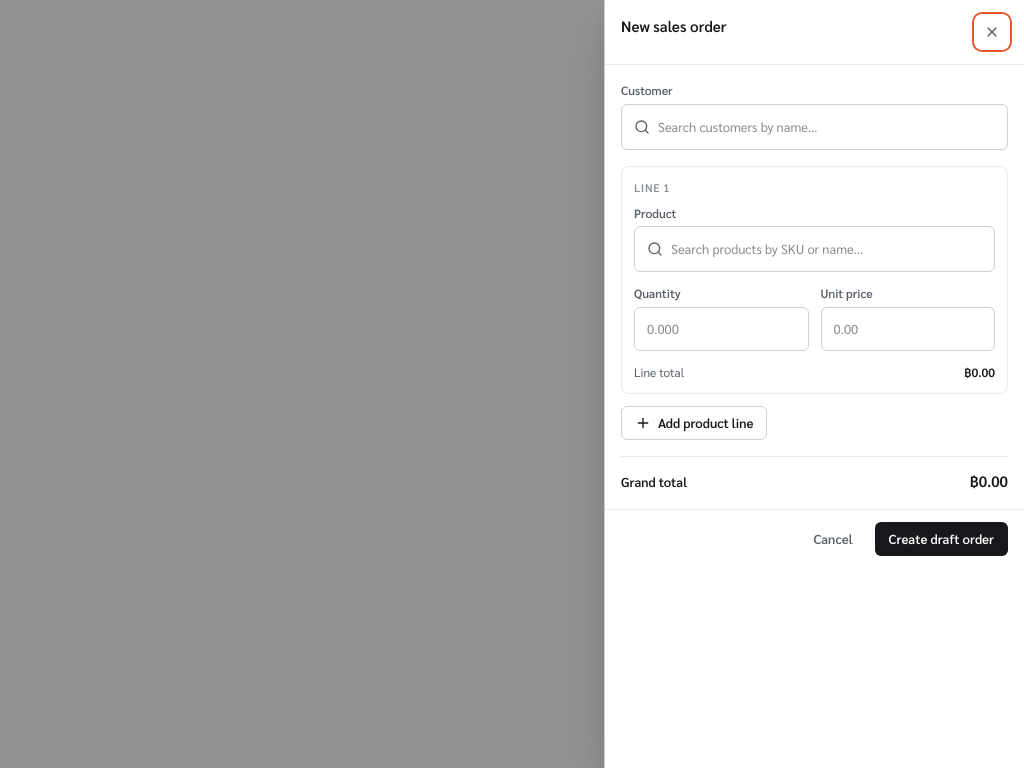
Test: CreateSalesOrderDrawer — validation summary › blocks submit and shows field errors when the form is empty
Click the button "Create draft order": (941, 539) [874,522,1008,556]
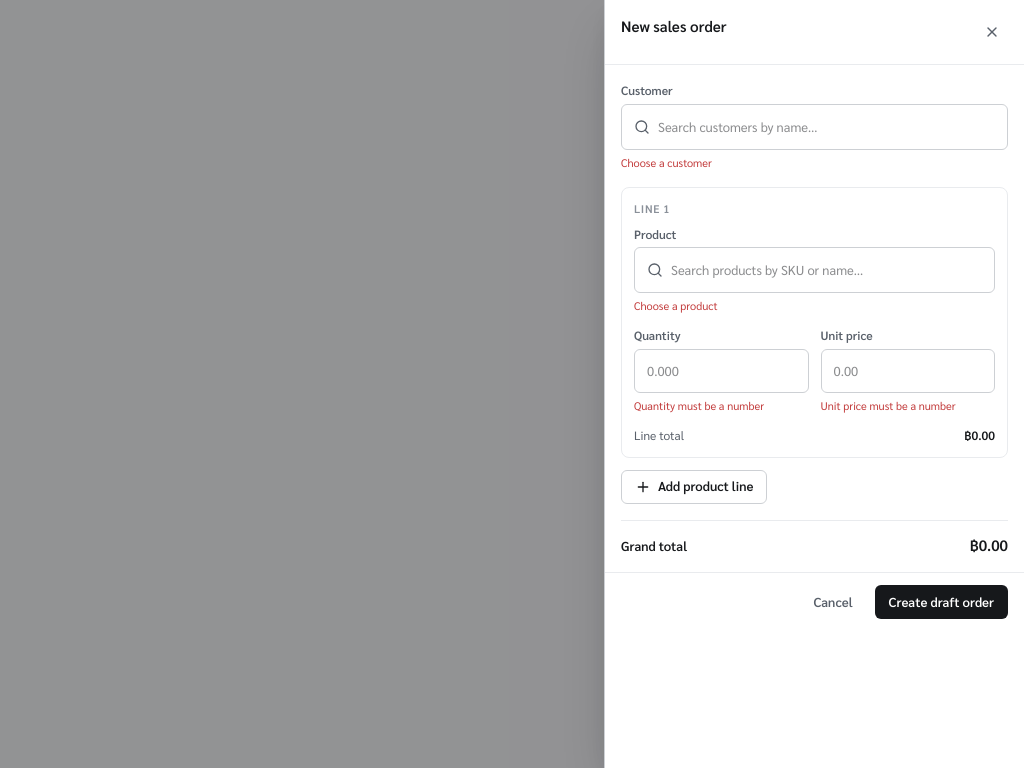
Expected: the text "Choose a customer" is shown, [621,155,712,170]
Expected: the text "Choose a product" is shown, [634,298,718,313]
Expected: the text "Quantity must be a number" is shown, [634,398,764,413]
